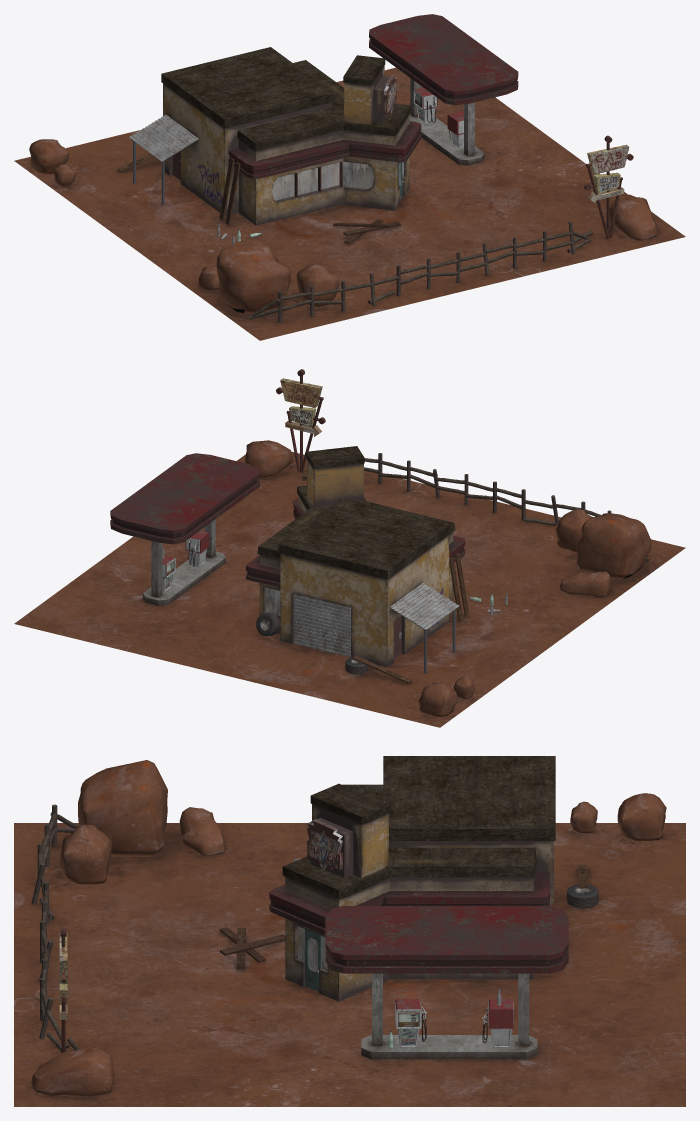
3 renders of one model, top to bottom at view 1: azimuth 30°, elevation 25°; view 2: azimuth 150°, elevation 25°; view 3: azimuth 270°, elevation 25°, orthographic. The views are drawn at different scales.
Parts seen in each view (by area): view 1: gasStationUV:pPlane1, gasStationUV:polySurface49, gasStationUV:polySurface13, pCube1, gasStationUV:pCube5, gasHavenSignUV:pCylinder10, gasStationUV:polySurface41, gasStationUV:pCube22, gasStationUV:group3_pasted__pCube11_gasStationUV:doorAndRoof, pCube5, pCube4, pCube2 (+4 smaller); view 2: gasStationUV:pPlane1, gasStationUV:polySurface49, gasStationUV:polySurface13, gasStationUV:group3_pasted__pCube11_gasStationUV:doorAndRoof, pCube1, gasStationUV:pCube22, gasHavenSignUV:pCylinder10, pCube5, gasStationUV:pCube5, pCube3, pCube2, pCube4 (+1 smaller); view 3: gasStationUV:pPlane1, gasStationUV:polySurface49, gasStationUV:polySurface13, pCube1, gasStationUV:pCube22, gasStationUV:pCube5, pCube5, pCube4, pCube2, pCube3, gasStationUV:pCube10, gasPump:pCylinder10 (+8 smaller).
Part boxes in pixels (bbox=[...]): gasStationUV:pPlane1: bbox=[14, 67, 685, 340]; gasStationUV:polySurface49: bbox=[161, 47, 410, 225]; gasStationUV:polySurface13: bbox=[369, 14, 518, 105]; pCube1: bbox=[216, 241, 290, 313]; gasStationUV:pCube5: bbox=[228, 121, 421, 179]; gasHavenSignUV:pCylinder10: bbox=[584, 135, 633, 238]; gasStationUV:polySurface41: bbox=[272, 161, 403, 200]; gasStationUV:pCube22: bbox=[409, 78, 484, 165]; gasStationUV:group3_pasted__pCube11_gasStationUV:doorAndRoof: bbox=[129, 114, 198, 161]; pCube5: bbox=[609, 194, 657, 240]; pCube4: bbox=[296, 263, 339, 307]; pCube2: bbox=[29, 139, 69, 174]; gasStationUV:pPlane1: bbox=[14, 451, 685, 727]; gasStationUV:polySurface49: bbox=[257, 446, 455, 667]; gasStationUV:polySurface13: bbox=[110, 453, 259, 544]; gasStationUV:group3_pasted__pCube11_gasStationUV:doorAndRoof: bbox=[293, 583, 459, 657]; pCube1: bbox=[576, 513, 651, 579]; gasStationUV:pCube22: bbox=[143, 519, 225, 605]; gasHavenSignUV:pCylinder10: bbox=[276, 369, 325, 472]; pCube5: bbox=[245, 440, 292, 478]; gasStationUV:pCube5: bbox=[246, 498, 465, 586]; pCube3: bbox=[559, 571, 610, 597]; pCube2: bbox=[418, 682, 457, 716]; pCube4: bbox=[555, 509, 591, 551]; gasStationUV:pPlane1: bbox=[14, 823, 685, 1106]; gasStationUV:polySurface49: bbox=[282, 756, 555, 1001]; gasStationUV:polySurface13: bbox=[325, 906, 568, 973]; pCube1: bbox=[78, 760, 167, 856]; gasStationUV:pCube22: bbox=[361, 973, 537, 1059]; gasStationUV:pCube5: bbox=[269, 872, 549, 934]; pCube5: bbox=[31, 1047, 114, 1096]; pCube4: bbox=[60, 824, 112, 884]; pCube2: bbox=[617, 793, 666, 840]; pCube3: bbox=[179, 807, 225, 856]; gasStationUV:pCube10: bbox=[307, 819, 342, 870]; gasPump:pCylinder10: bbox=[395, 999, 426, 1047].
Size of the model in its own units: 64.87 by 19.12 by 64.87.
Materials: 35 (33 with a texture image).
